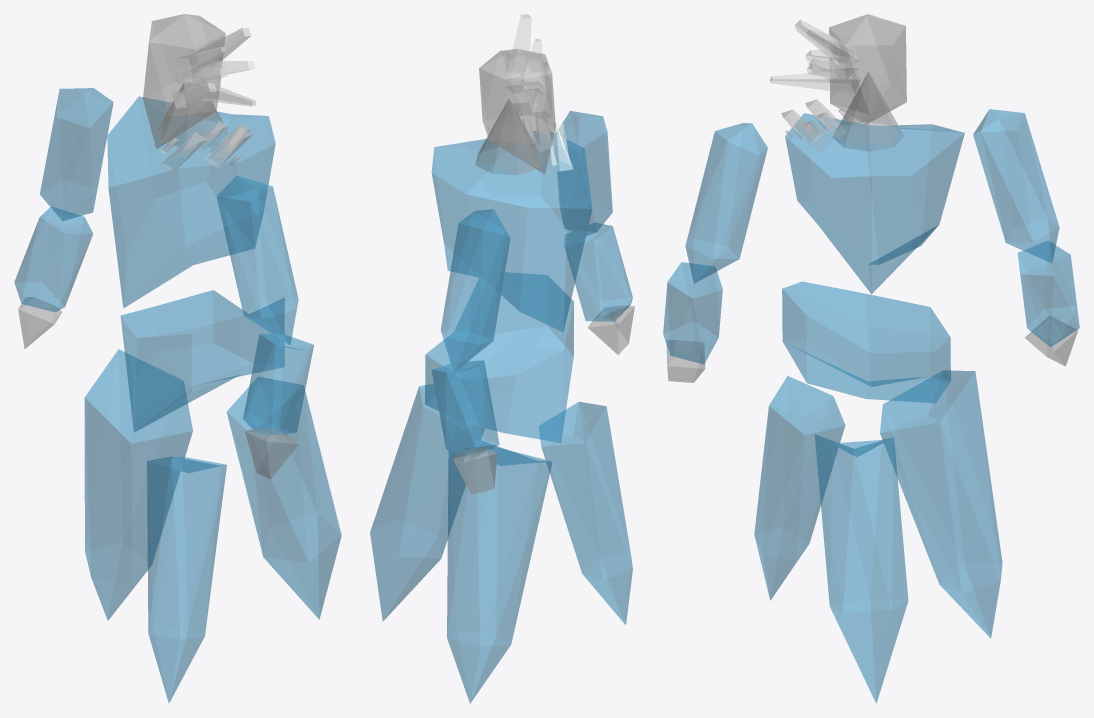
The model's file is ghostIdle3.obj.
3 renders of one model, left to right at view 1: azimuth 30°, elevation 25°; view 2: azimuth 150°, elevation 25°; view 3: azimuth 270°, elevation 25°, orthographic. The views are drawn at different scales.
Parts seen in each view (by area): view 1: Cube.001_Cube.001, Icosphere.005, Icosphere.004, Cube_Cube.002, Icosphere.003, Icosphere.005_Icosphere.001, Icosphere.003_Icosphere.001, Icosphere.007_Icosphere.001, Icosphere.006_Icosphere.001, Icosphere.008_Icosphere.001, Cone_Cone.002, Cube.002_Cube.001 (+8 smaller); view 2: Cube.001_Cube.001, Cube_Cube.002, Icosphere.005, Icosphere.004, Icosphere.003, Icosphere.007_Icosphere.001, Icosphere.003_Icosphere.001, Icosphere.005_Icosphere.001, Icosphere.008_Icosphere.001, Icosphere.006_Icosphere.001, Cone_Cone.002, Cube.003_Cube.001 (+6 smaller); view 3: Cube.001_Cube.001, Icosphere.005, Icosphere.004, Cube_Cube.002, Icosphere.003, Icosphere.005_Icosphere.001, Icosphere.007_Icosphere.001, Icosphere.003_Icosphere.001, Icosphere.006_Icosphere.001, Icosphere.008_Icosphere.001, Cone_Cone.002, Cube.003_Cube.001 (+4 smaller).
Boxes of the visible parts, <box> form: Cube.001_Cube.001: <box>107,96,275,308</box>; Icosphere.005: <box>84,349,192,620</box>; Icosphere.004: <box>227,377,341,619</box>; Cube_Cube.002: <box>120,290,284,432</box>; Icosphere.003: <box>147,456,226,702</box>; Icosphere.005_Icosphere.001: <box>217,175,298,345</box>; Icosphere.003_Icosphere.001: <box>143,14,225,149</box>; Icosphere.007_Icosphere.001: <box>40,88,113,220</box>; Icosphere.006_Icosphere.001: <box>243,334,313,436</box>; Icosphere.008_Icosphere.001: <box>14,207,92,311</box>; Cone_Cone.002: <box>157,83,227,147</box>; Cube.002_Cube.001: <box>245,428,298,479</box>; Cube.001_Cube.001: <box>431,131,592,332</box>; Cube_Cube.002: <box>425,272,573,442</box>; Icosphere.005: <box>447,438,552,703</box>; Icosphere.004: <box>370,384,484,621</box>; Icosphere.003: <box>539,401,632,624</box>; Icosphere.007_Icosphere.001: <box>441,209,510,371</box>; Icosphere.003_Icosphere.001: <box>479,49,555,173</box>; Icosphere.005_Icosphere.001: <box>556,110,612,235</box>; Icosphere.008_Icosphere.001: <box>431,360,499,460</box>; Icosphere.006_Icosphere.001: <box>564,223,632,321</box>; Cone_Cone.002: <box>476,99,539,174</box>; Cube.003_Cube.001: <box>453,447,497,494</box>; Cube.001_Cube.001: <box>785,113,964,293</box>; Icosphere.005: <box>880,370,1002,638</box>; Icosphere.004: <box>814,434,908,703</box>; Cube_Cube.002: <box>782,281,950,403</box>; Icosphere.003: <box>754,376,845,600</box>; Icosphere.005_Icosphere.001: <box>685,123,767,283</box>; Icosphere.007_Icosphere.001: <box>973,109,1059,262</box>; Icosphere.003_Icosphere.001: <box>829,14,906,124</box>; Icosphere.006_Icosphere.001: <box>663,262,722,364</box>; Icosphere.008_Icosphere.001: <box>1017,241,1079,347</box>; Cone_Cone.002: <box>832,72,903,151</box>; Cube.003_Cube.001: <box>1025,316,1078,366</box>.
Bounding box in the file's own units: 17.04 × 47.5 × 28.18.
